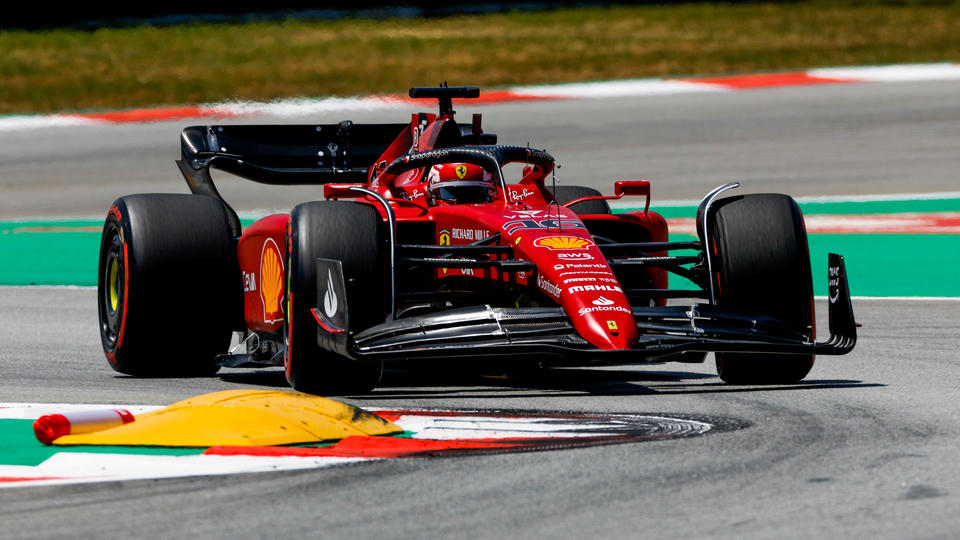Formule 1: (100, 123, 859, 377)
